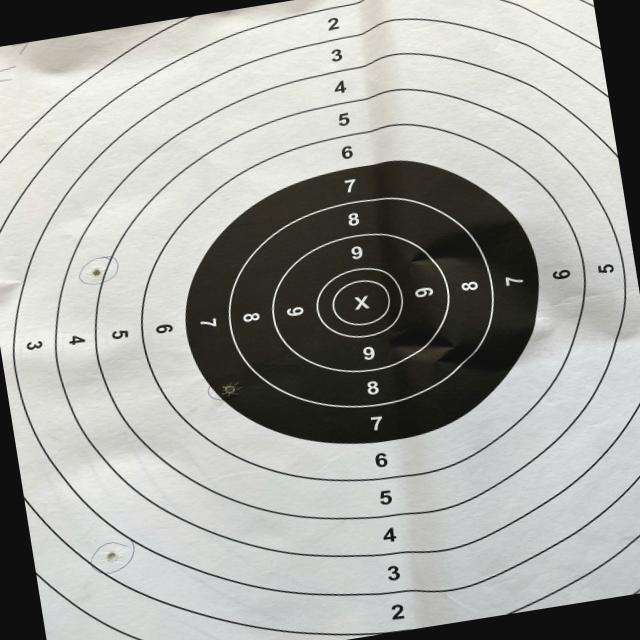bullet: (222, 382, 241, 397), (107, 551, 119, 562), (92, 268, 101, 276)
target: (0, 0, 640, 640)
